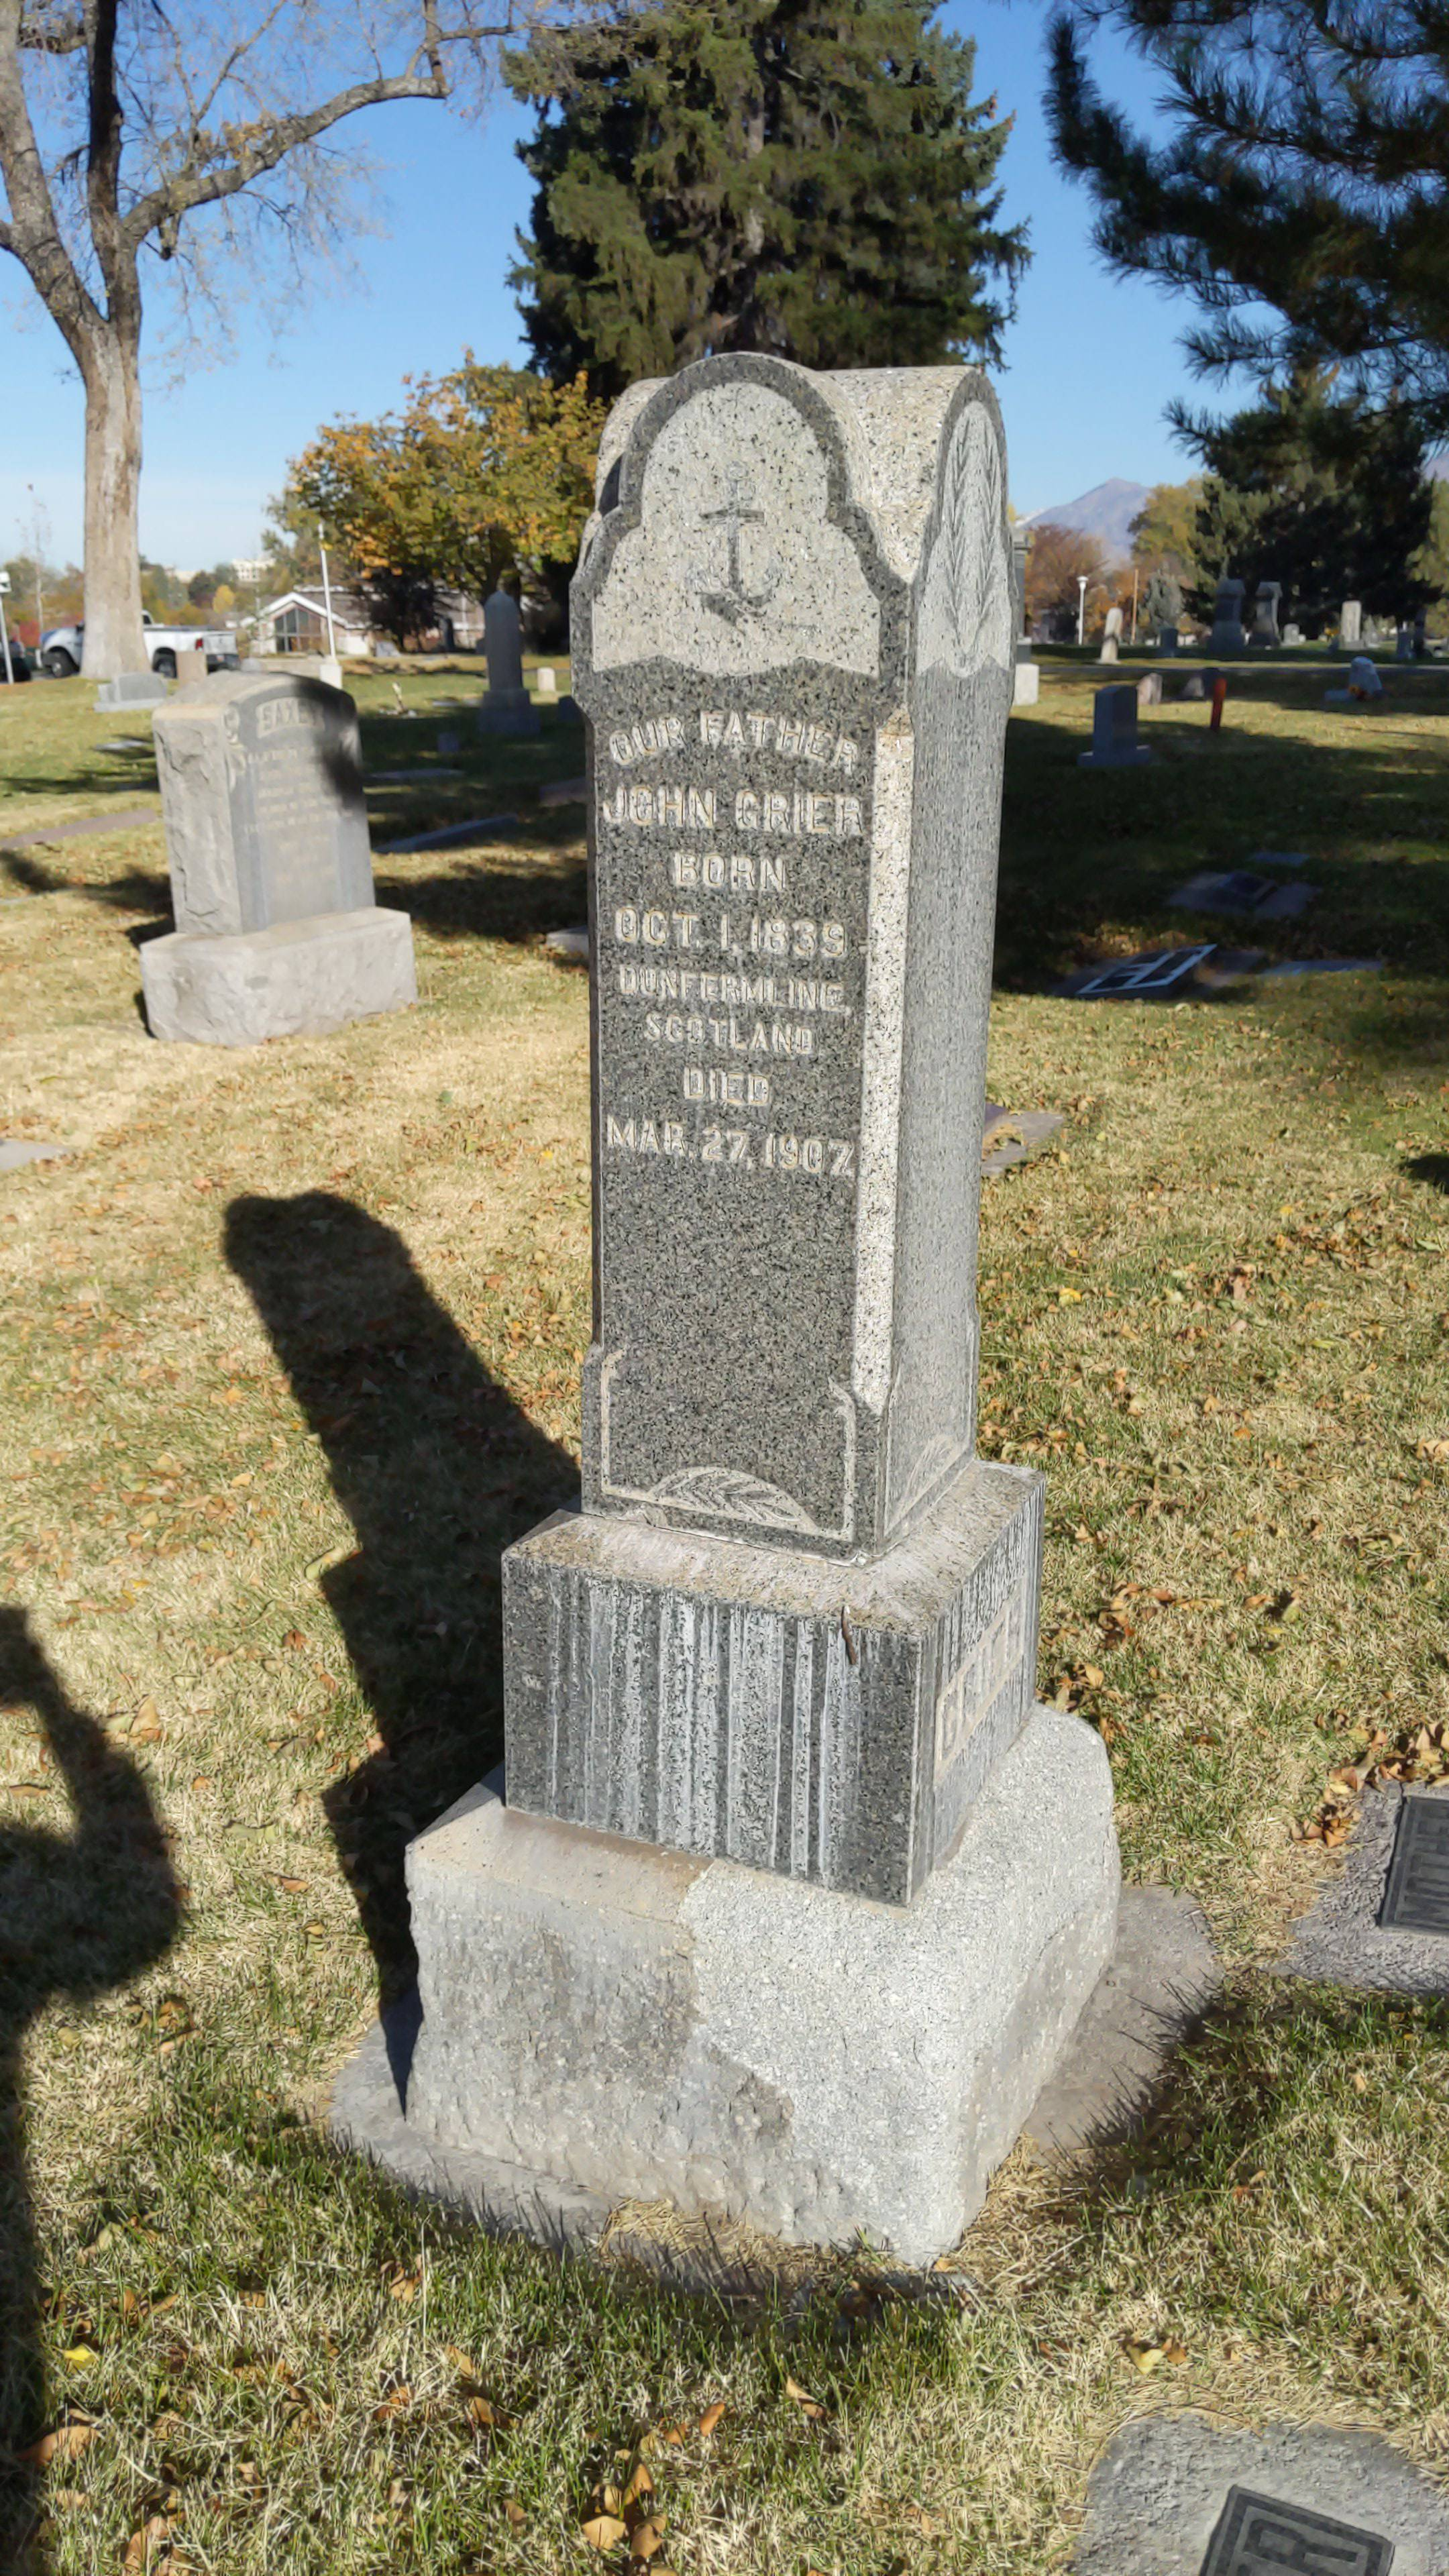obelisk: (497, 359, 1040, 1909)
